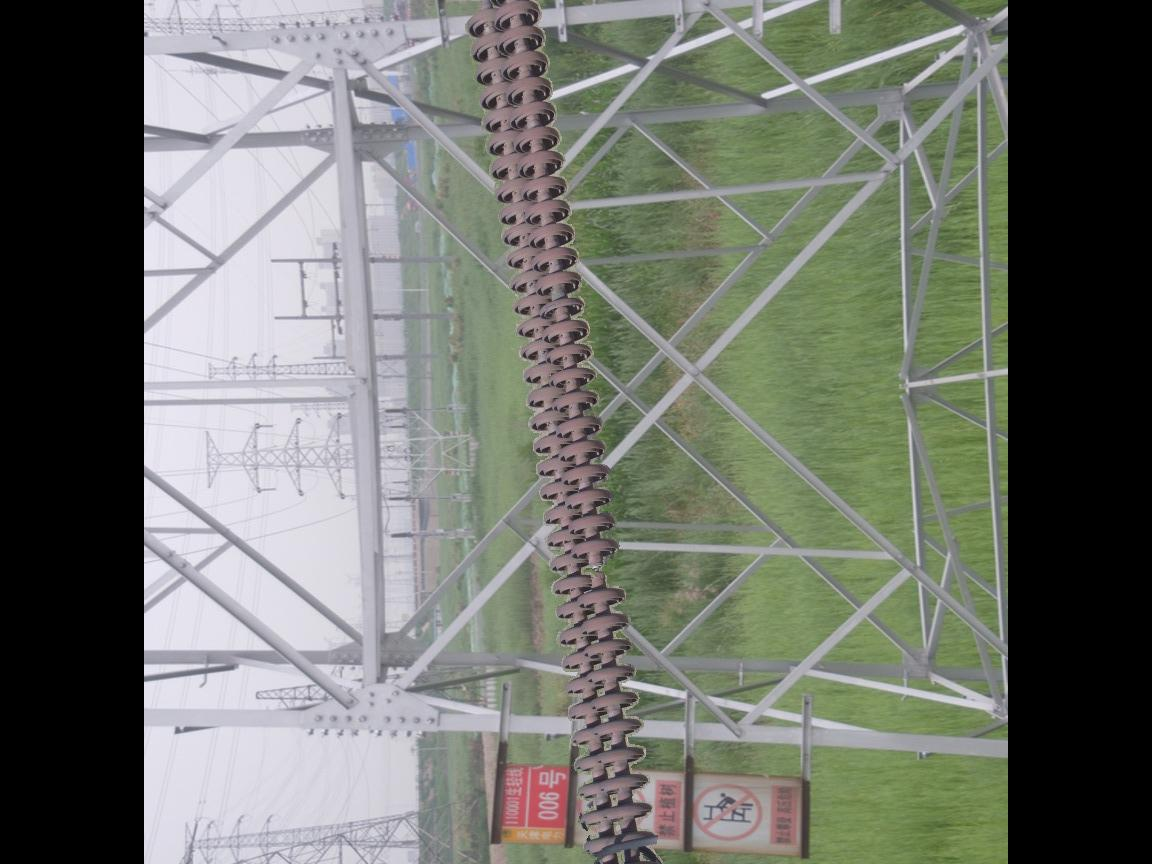insulator: (461, 1, 663, 864)
insulator_stringdrop: (566, 533, 630, 612)
